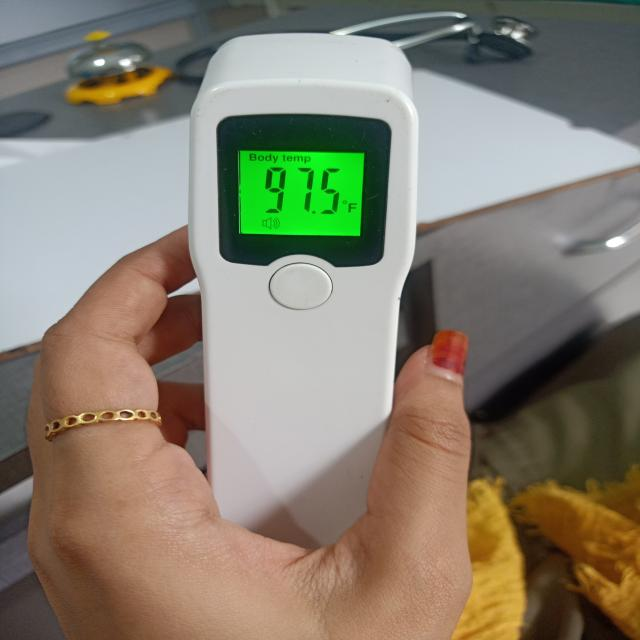display: (240, 151, 364, 235)
frame: (256, 162, 352, 220)
gauge: (188, 35, 422, 546)
